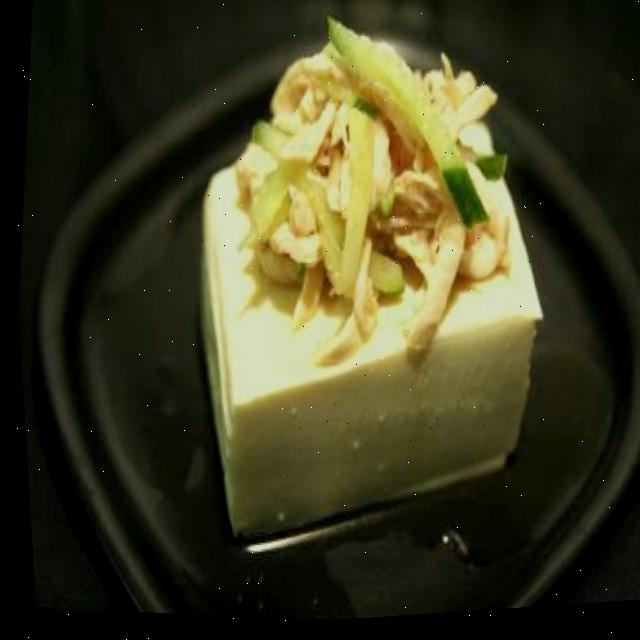豆腐料理: (148, 0, 579, 578)
